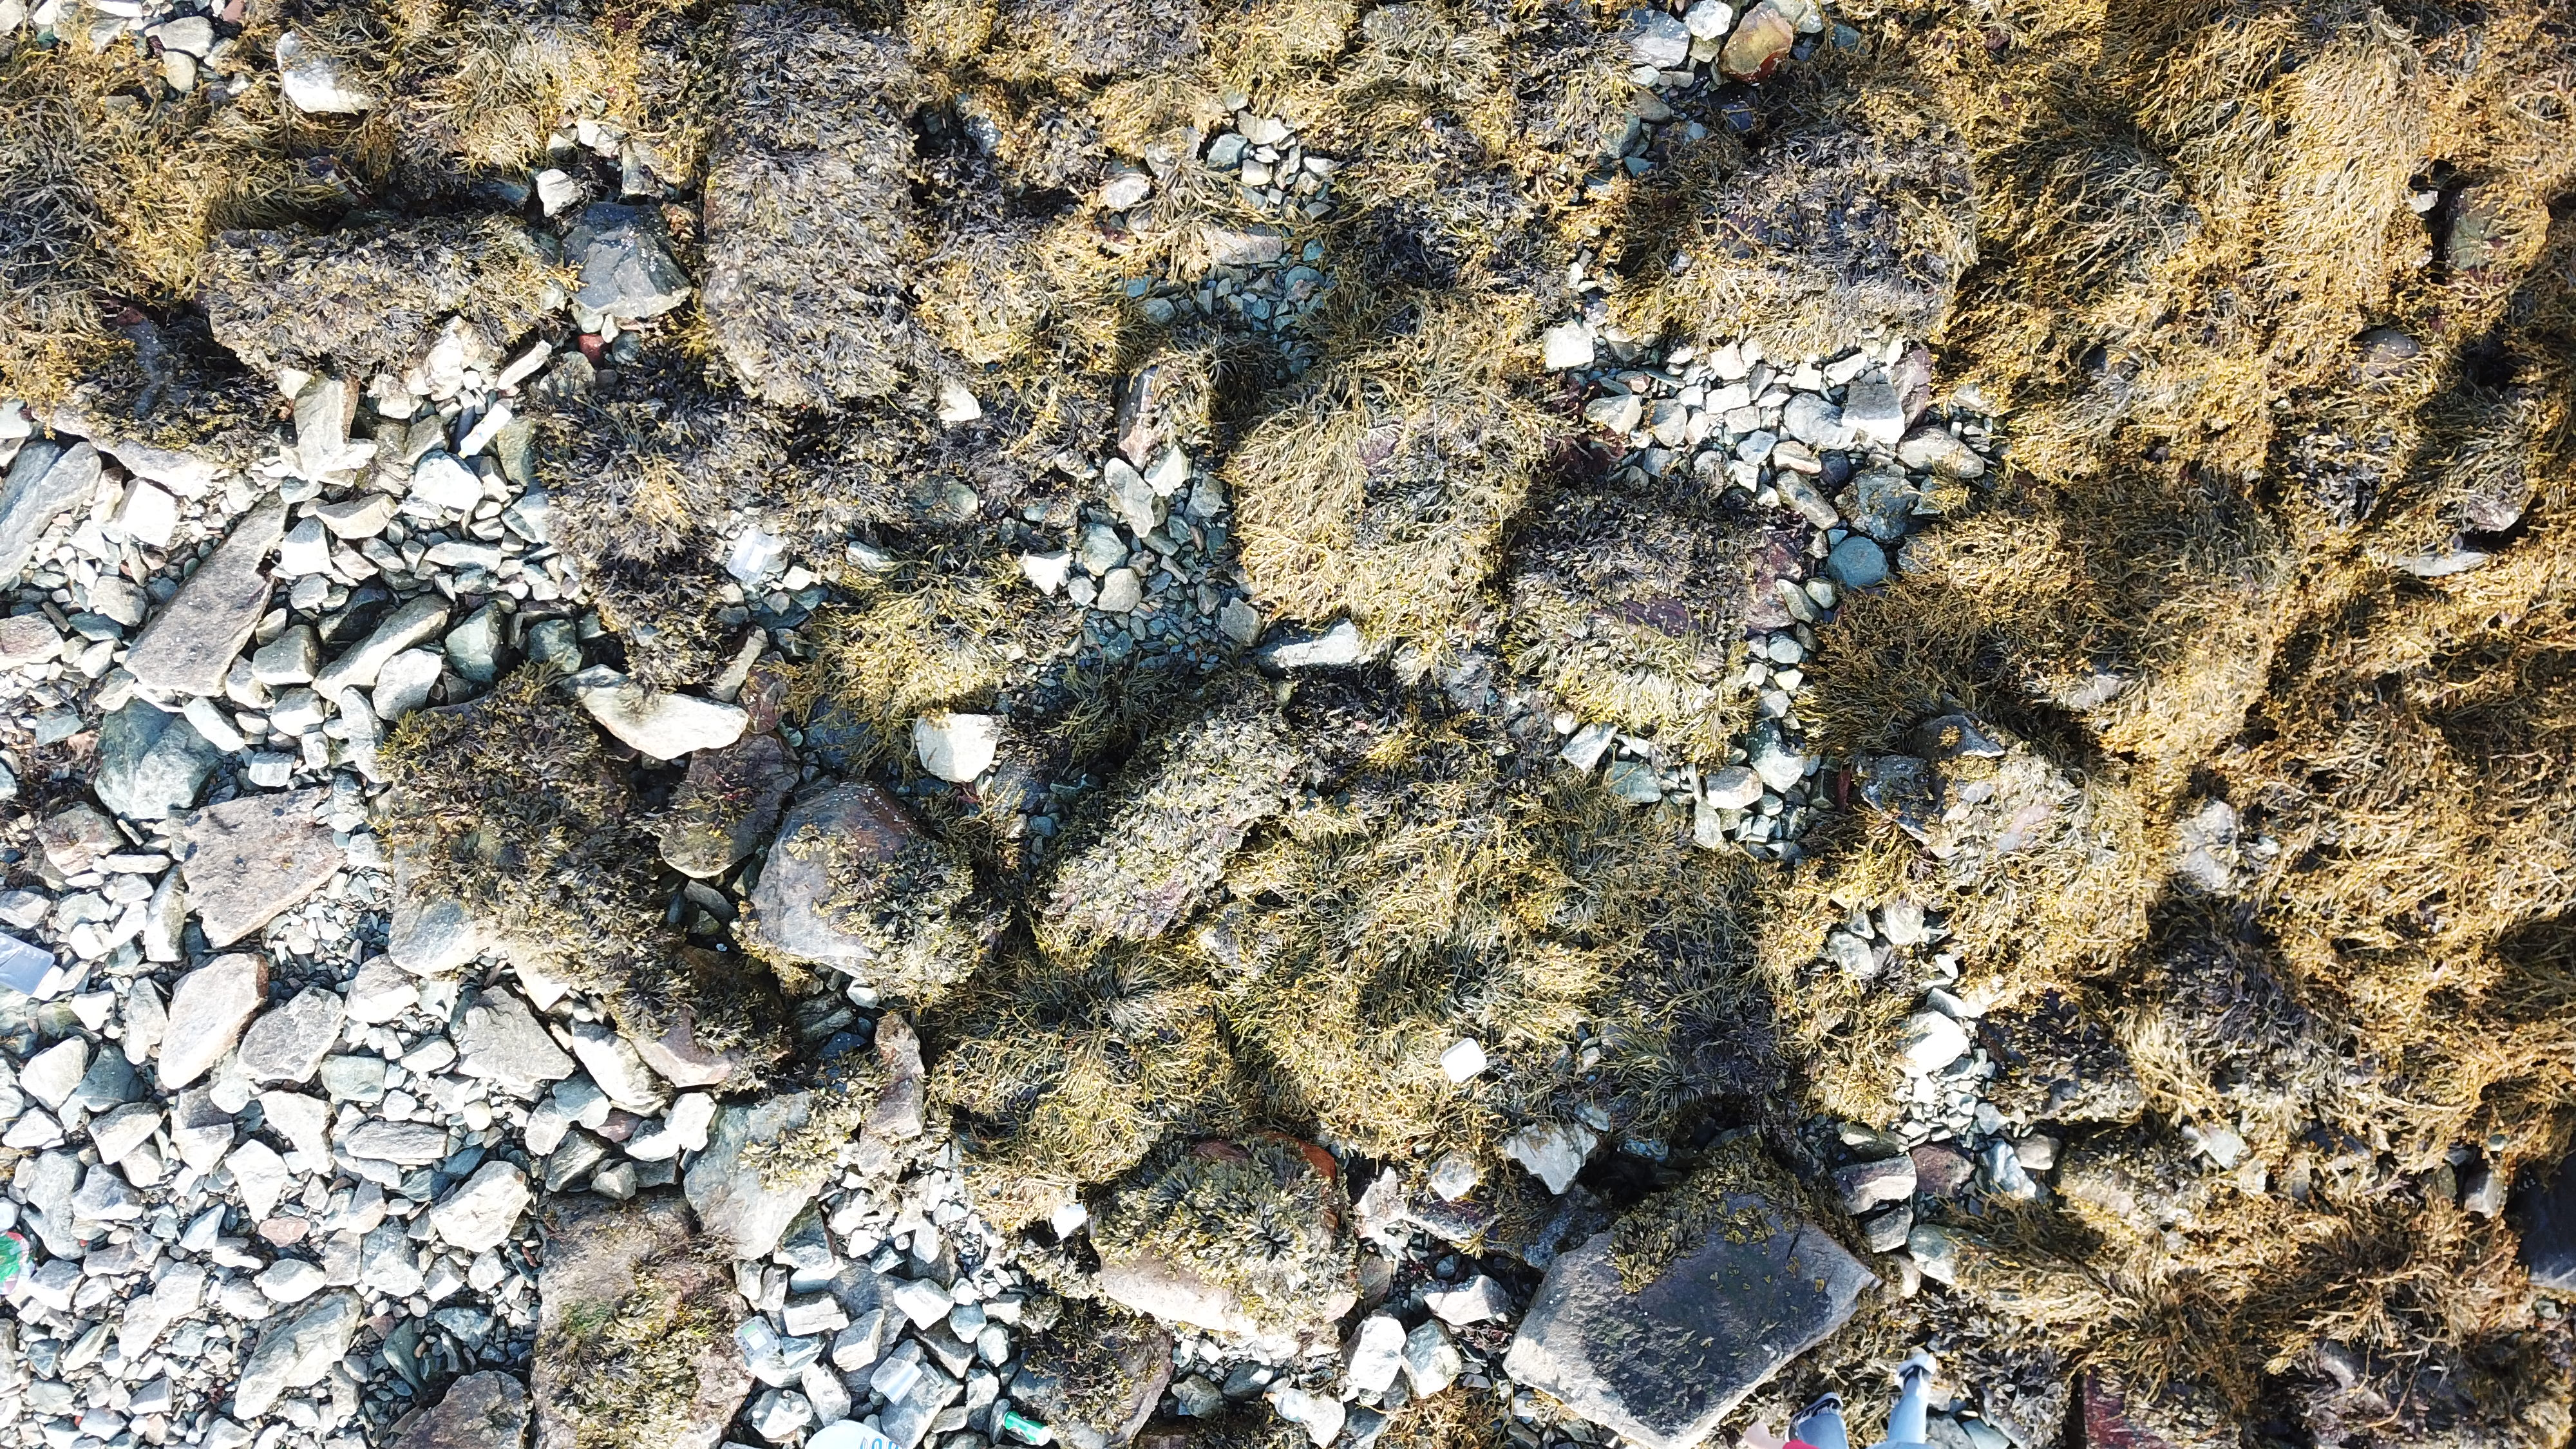Can: (1003, 1412, 1054, 1444)
Plastic: (0, 929, 57, 994), (458, 402, 513, 460), (803, 1419, 904, 1449), (734, 1315, 782, 1366), (1440, 1037, 1488, 1085), (0, 1231, 34, 1295), (883, 1359, 924, 1407), (1261, 1389, 1315, 1422), (1053, 1200, 1092, 1240)
